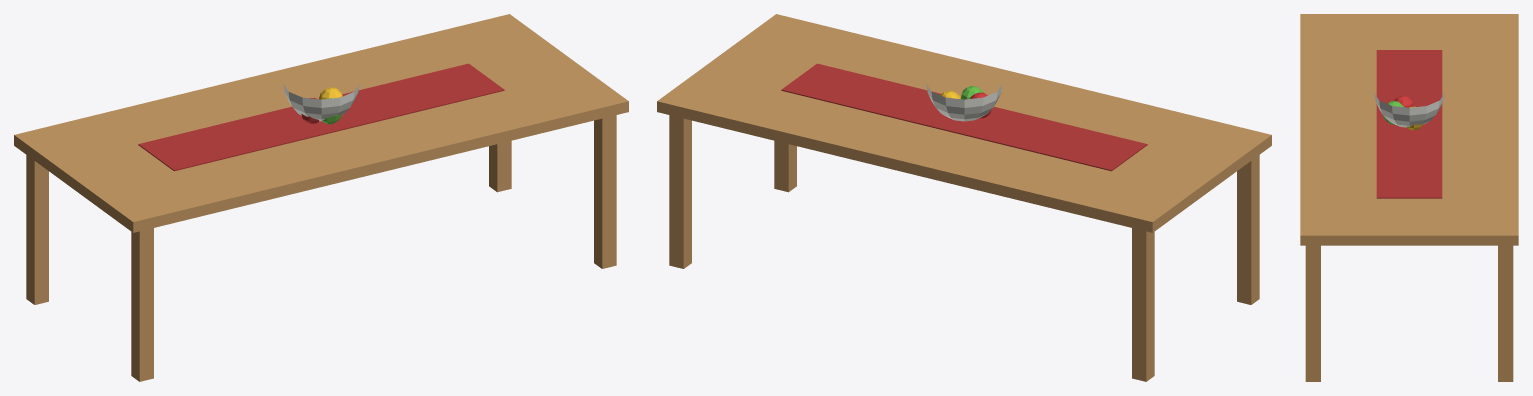
Rendered from dining_table.glb.
3 views of the same model, side by side, from view 1: azimuth 30°, elevation 25°; view 2: azimuth 150°, elevation 25°; view 3: azimuth 270°, elevation 25° (orthographic). The views are drawn at different scales.
Parts seen in each view (by area): view 1: top_table_wood, leg_table_wood, runner_table_runner, bowl_table_bowl; view 2: top_table_wood, leg_table_wood, runner_table_runner, bowl_table_bowl; view 3: top_table_wood, runner_table_runner, leg_table_wood, bowl_table_bowl.
Part boxes in pixels (left/top/right/bottom): top_table_wood: left=14, top=14, right=628, bottom=232; leg_table_wood: left=26, top=115, right=616, bottom=381; runner_table_runner: left=138, top=63, right=504, bottom=171; bowl_table_bowl: left=283, top=84, right=359, bottom=121; top_table_wood: left=657, top=14, right=1271, bottom=232; leg_table_wood: left=669, top=115, right=1259, bottom=381; runner_table_runner: left=781, top=63, right=1147, bottom=171; bowl_table_bowl: left=926, top=84, right=1002, bottom=121; top_table_wood: left=1300, top=14, right=1518, bottom=245; runner_table_runner: left=1376, top=50, right=1442, bottom=198; leg_table_wood: left=1305, top=245, right=1513, bottom=381; bowl_table_bowl: left=1374, top=94, right=1444, bottom=127.
Bounding box in the file's own units: 2.4 × 0.92 × 1.
